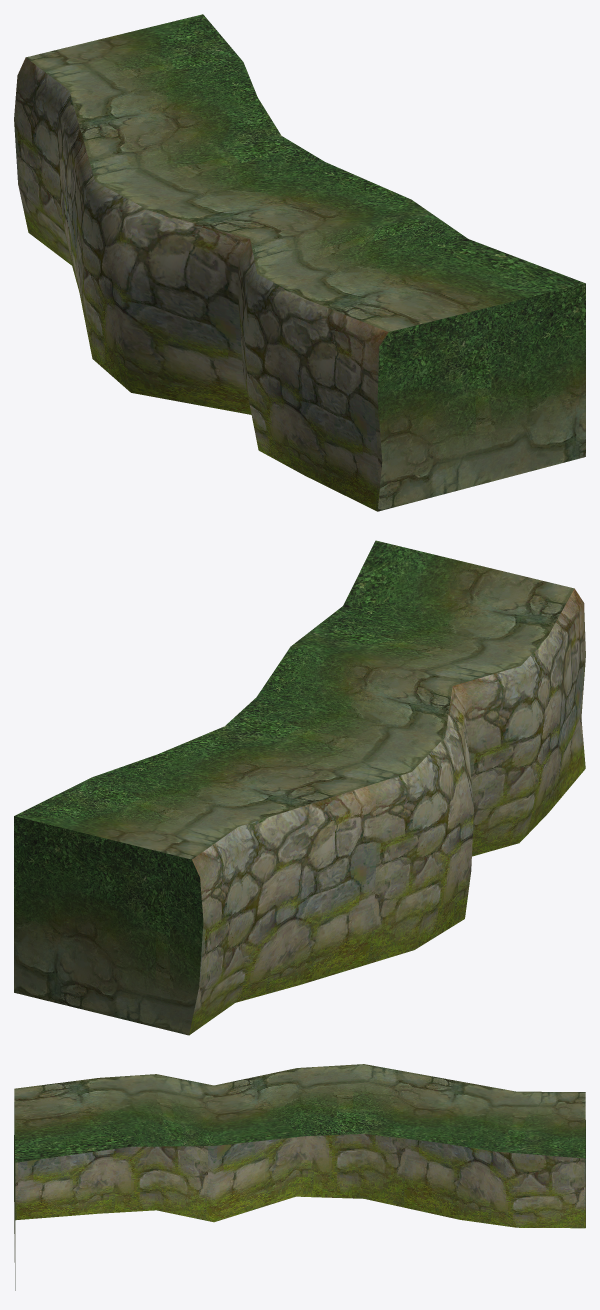
Rendered from Dingqingchuan_wujian_07.FBX.
3 renders of one model, top to bottom at view 1: azimuth 30°, elevation 25°; view 2: azimuth 150°, elevation 25°; view 3: azimuth 270°, elevation 25°, orthographic. The views are drawn at different scales.
Visible parts, largest first — view 1: Object05; view 2: Object05; view 3: Object05.
Boxes of the visible parts, left/top/right/bottom form: Object05: left=14, top=14, right=585, bottom=511; Object05: left=14, top=540, right=585, bottom=1035; Object05: left=14, top=1064, right=585, bottom=1290.
Size of the model in its own units: 7 by 4.26 by 16.07.
